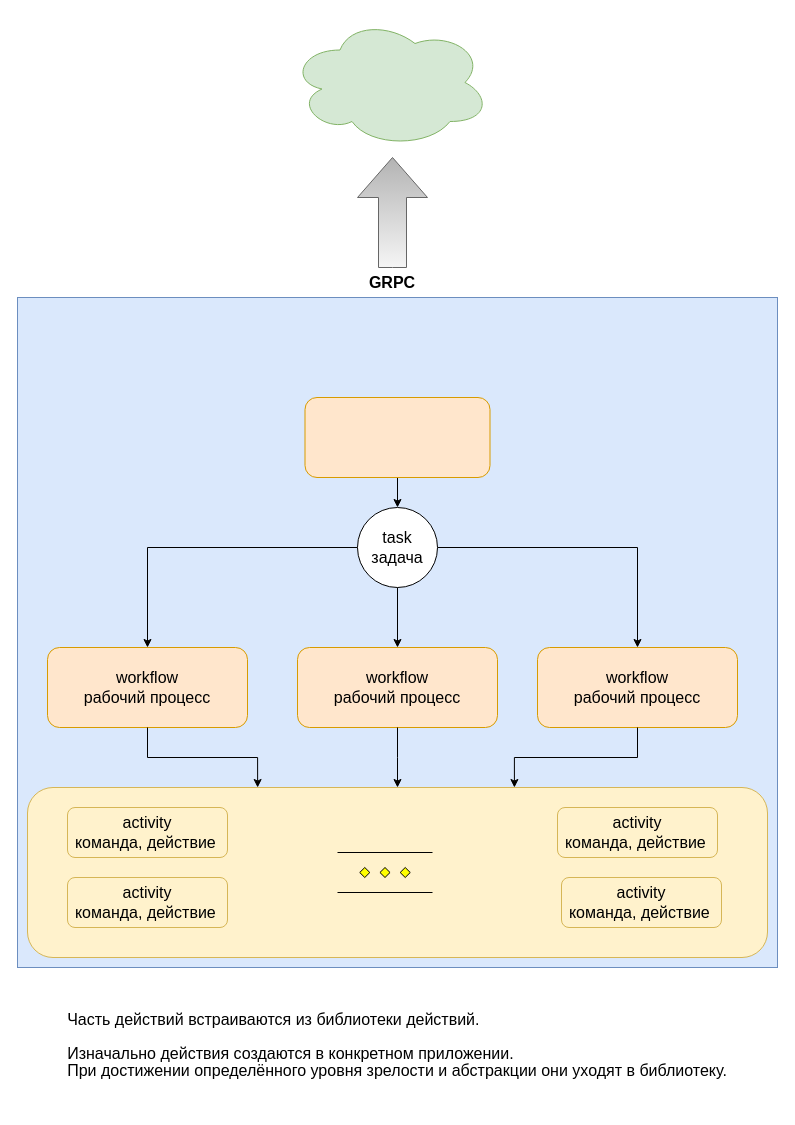
The diagram is 795 pixels wide and 1125 high, and some of its shapes have lost their labels. The centre of each missing label's shape, as x and y in pixels:
worker регистратор - рабочий: (397,437)
эгоцентричный temporal: (389,82)
